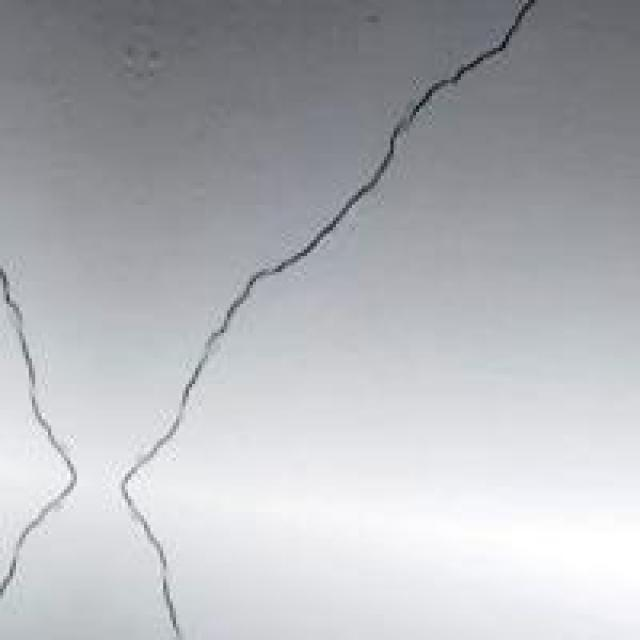Crack: (73, 0, 534, 637)
